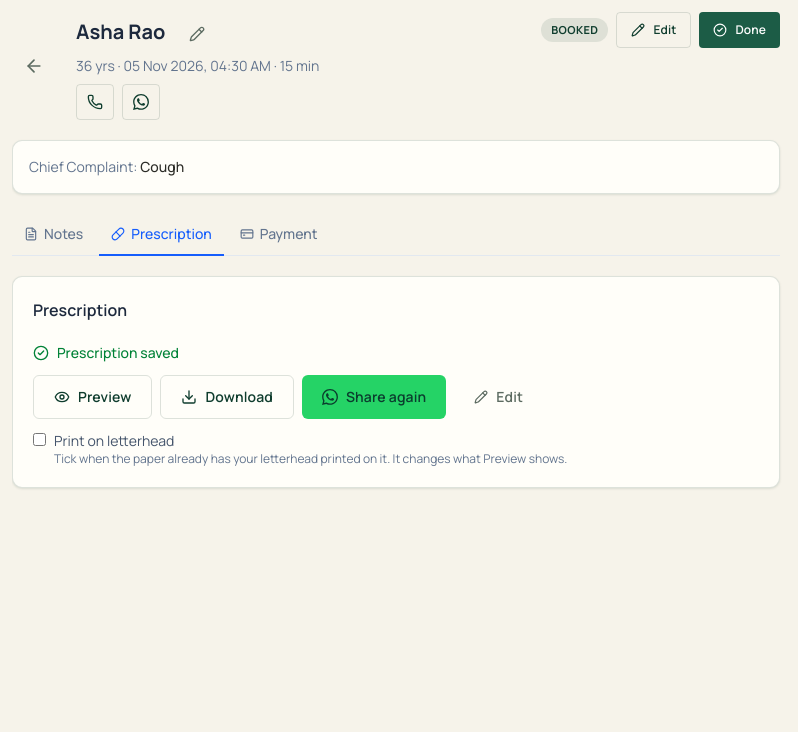
Test case: Save & share on the appointment page › shows a saved prescription read-only, with Preview in a new tab, Share again and Edit
Click the button "Prescription". click: point(162, 235)
box: [99,214,224,256]
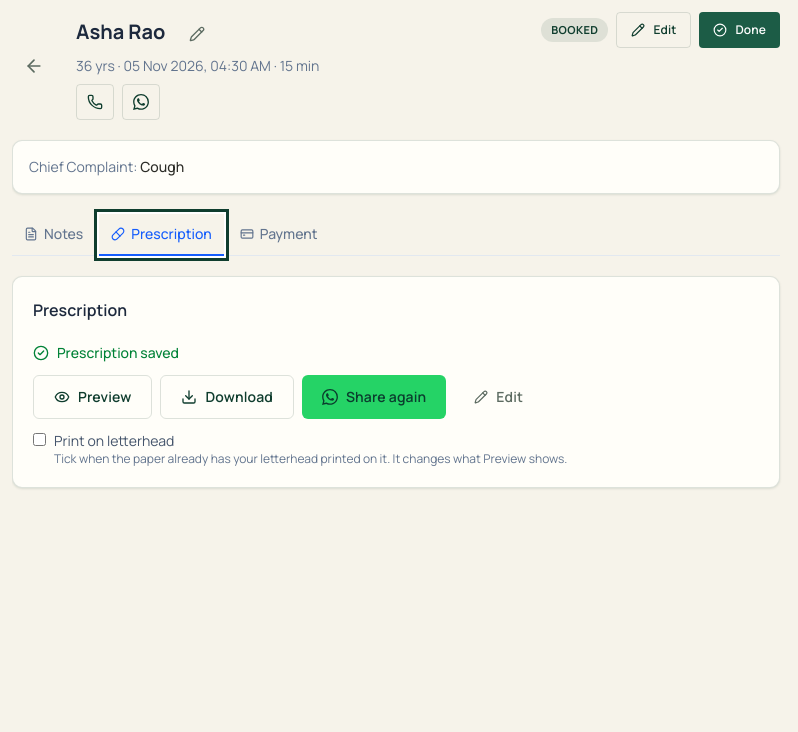
expect the text "Prescription saved" is shown: met, box [33,343,179,362]
expect the button "Share again" is shown: met, box [302,375,446,419]
Click the button with aria-label "Edit prescription". click: point(499, 397)
box: [454,375,543,419]
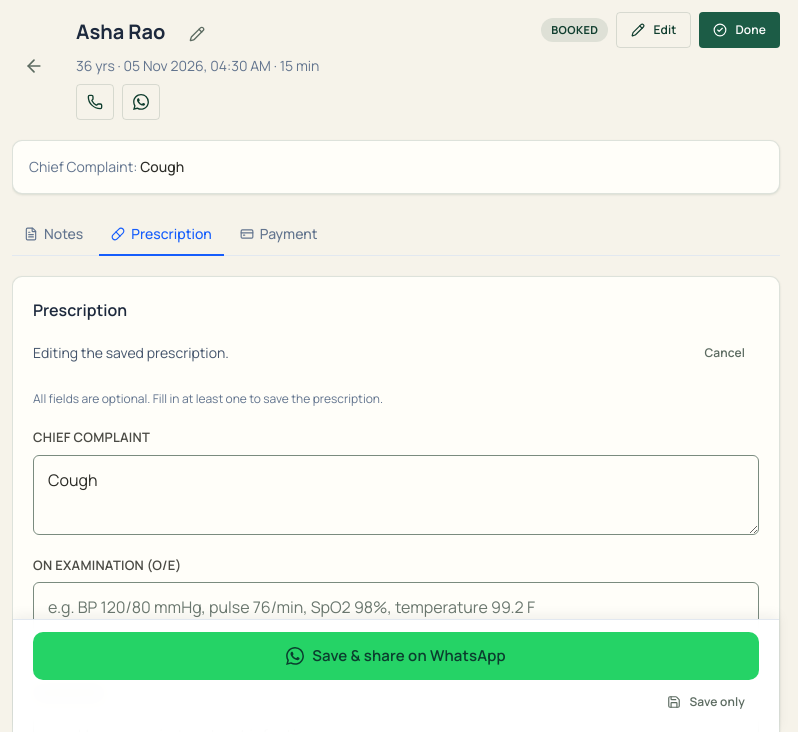
Click the button "Cancel". click: point(725, 353)
box: [690,335,759,371]
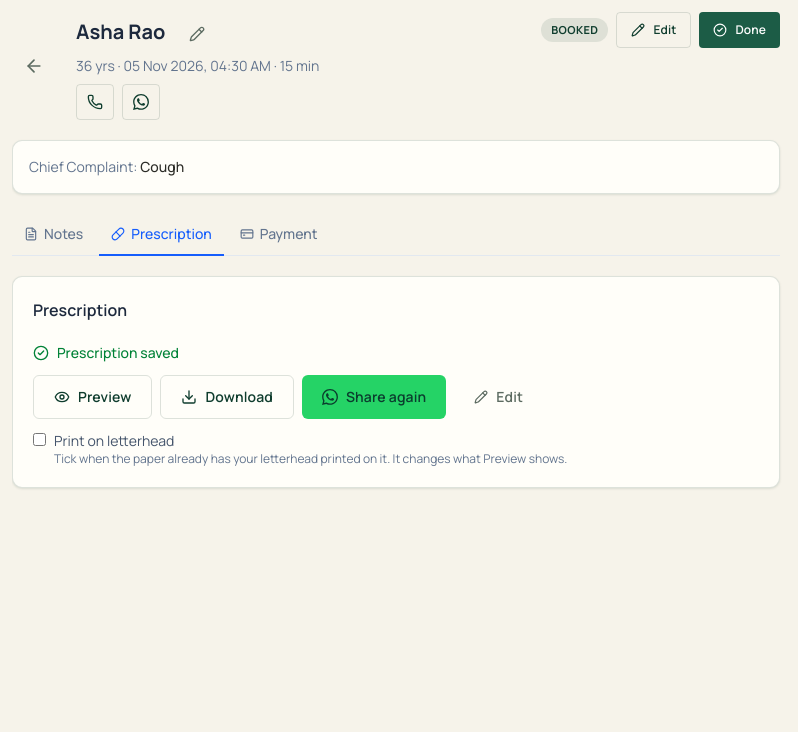
expect no fields labelled "Medicine name" are shown: met
